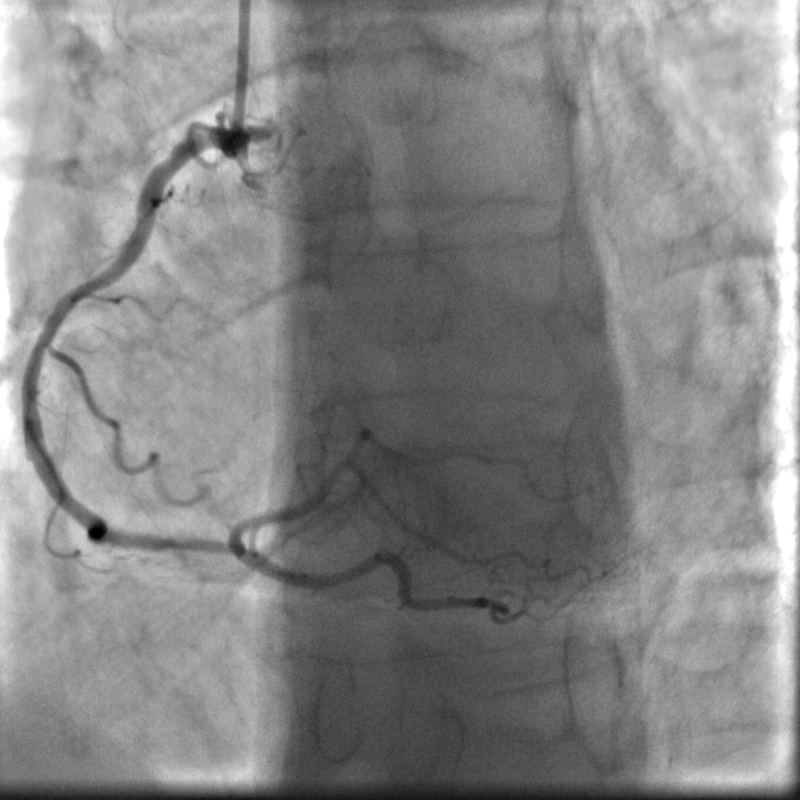Stenosis: (149, 524, 230, 566)
